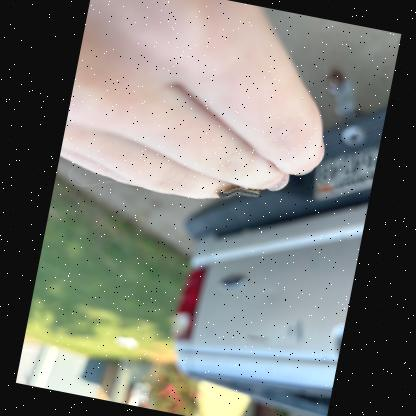Fall Armyworm Larvae: (214, 180, 262, 207)
